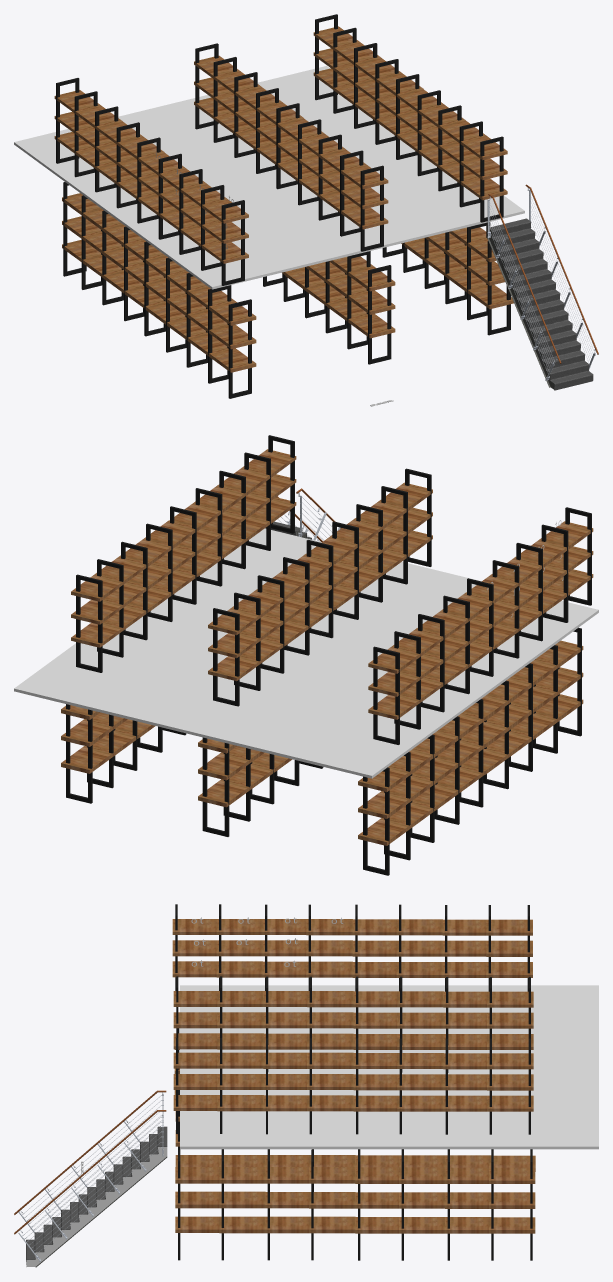
File: das 11.glb
3 renders of one model, top to bottom at view 1: azimuth 30°, elevation 25°; view 2: azimuth 150°, elevation 25°; view 3: azimuth 270°, elevation 25°, orthographic. The views are drawn at different scales.
Visible parts, largest first — view 1: _C-Component#4 (Loose Mesh), C-Steel Stair, _C-Component#3 (Loose Mesh), C-Stair Stringer, G-Object.124, G-Object.024, G-Object.066, G-Object.123, G-Object.122, G-Object.220, G-Object.106, G-Object.302 (+24 smaller); view 2: _C-Component#4 (Loose Mesh), G-Object.097, G-Object.107, G-Object.025, G-Object.015, G-Object.057, G-Object.067, G-Object.206, G-Object.248, G-Object.288, G-Object.205, G-Object.287 (+50 smaller); view 3: _C-Component#4 (Loose Mesh), C-Steel Stair, _C-Component#3 (Loose Mesh), C-Stair Stringer.001, G-Object.040, G-Object.004, G-Object.039, G-Object.008, G-Object.001, G-Object.007, G-Object.213, G-Object.222 (+96 smaller).
Boxes of the visible parts, x1,y1,x2,y2 form: _C-Component#4 (Loose Mesh): (14, 66, 524, 289); C-Steel Stair: (489, 218, 593, 390); _C-Component#3 (Loose Mesh): (488, 184, 598, 372); C-Stair Stringer: (487, 230, 554, 389); G-Object.124: (209, 325, 256, 349); G-Object.024: (467, 284, 513, 309); G-Object.066: (209, 348, 256, 372); G-Object.123: (348, 266, 395, 291); G-Object.122: (348, 290, 395, 314); G-Object.220: (460, 157, 507, 180); G-Object.106: (348, 314, 395, 338); G-Object.302: (341, 186, 388, 209); _C-Component#4 (Loose Mesh): (14, 528, 598, 778); G-Object.097: (198, 779, 251, 807); G-Object.107: (198, 752, 251, 780); G-Object.025: (61, 719, 113, 746); G-Object.015: (61, 746, 113, 773); G-Object.057: (358, 818, 411, 845); G-Object.067: (358, 791, 411, 818); G-Object.206: (71, 573, 124, 601); G-Object.248: (368, 645, 421, 673); G-Object.288: (208, 606, 261, 635); G-Object.205: (71, 598, 124, 624); G-Object.287: (208, 631, 261, 658); _C-Component#4 (Loose Mesh): (180, 985, 598, 1149); C-Steel Stair: (26, 1126, 167, 1266); _C-Component#3 (Loose Mesh): (14, 1090, 166, 1255); C-Stair Stringer.001: (26, 1147, 167, 1267); G-Object.040: (175, 1191, 221, 1208); G-Object.004: (265, 1216, 311, 1233); G-Object.039: (309, 1216, 355, 1233); G-Object.008: (219, 1191, 265, 1208); G-Object.001: (309, 1167, 355, 1183); G-Object.007: (219, 1216, 265, 1233); G-Object.213: (397, 1074, 443, 1090); G-Object.222: (306, 940, 352, 956).
Size of the model in its own units: 1.24 by 0.7484 by 1.91.
Materials: 8 (6 with a texture image).
